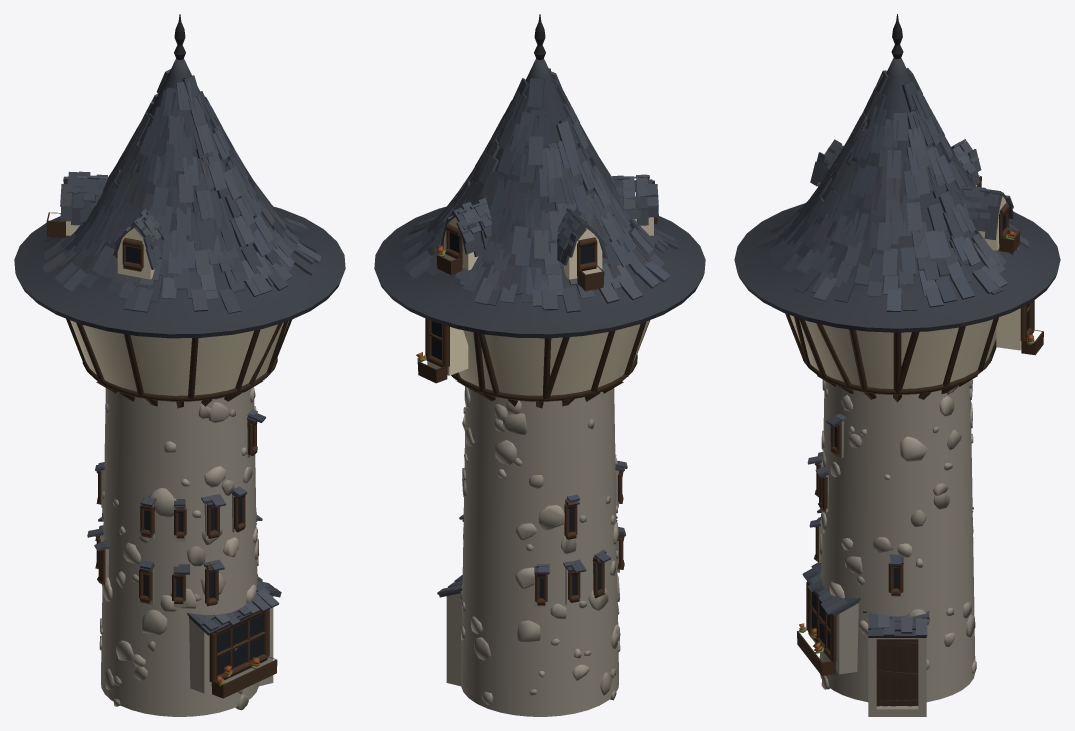
File: tower_round_01.glb
The picture shows the model from 3 angles, left to right: view 1: azimuth 30°, elevation 25°; view 2: azimuth 150°, elevation 25°; view 3: azimuth 270°, elevation 25°; orthographic projection.
Visible parts, largest first — view 1: landmark_tower_round_01; view 2: landmark_tower_round_01; view 3: landmark_tower_round_01.
Part boxes in pixels (x1=…): landmark_tower_round_01: x1=14, y1=14, x2=345, y2=716; landmark_tower_round_01: x1=374, y1=14, x2=705, y2=716; landmark_tower_round_01: x1=734, y1=14, x2=1060, y2=716.
Bounding box in the file's own units: 5.86 × 13.18 × 5.86.
